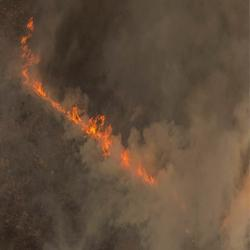fire: (31, 77, 51, 98), (121, 148, 132, 169), (85, 123, 97, 137), (23, 19, 35, 30), (102, 133, 109, 147)
